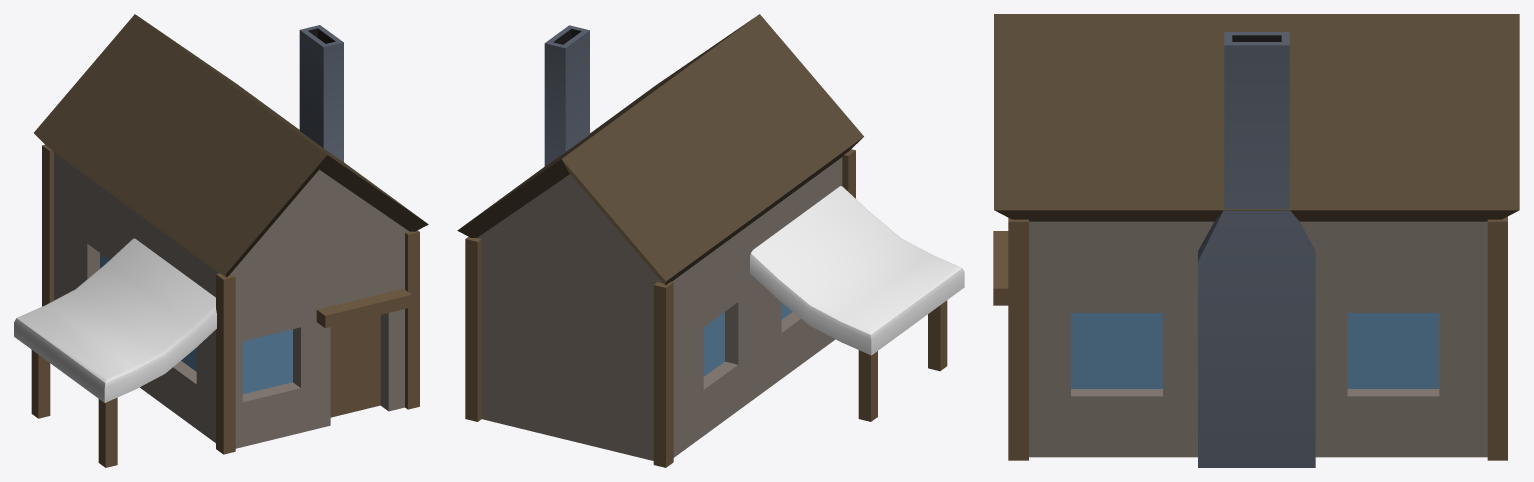
Rendered from House_1.fbx.
The picture shows the model from 3 angles, left to right: view 1: azimuth 30°, elevation 25°; view 2: azimuth 150°, elevation 25°; view 3: azimuth 270°, elevation 25°; orthographic projection. The views are drawn at different scales.
Visible parts, largest first — view 1: House_1; view 2: House_1; view 3: House_1.
Boxes of the visible parts, x1,y1,x2,y2 form: House_1: (14,14,428,467); House_1: (457,14,964,467); House_1: (993,14,1519,467).
Size of the model in its own units: 613 by 560 by 640.
